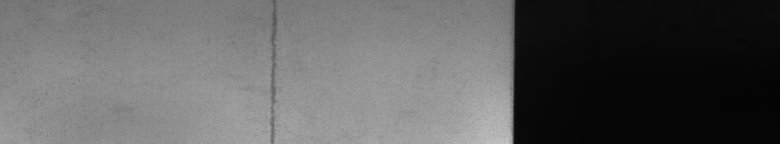hd: (256, 4, 281, 136)
